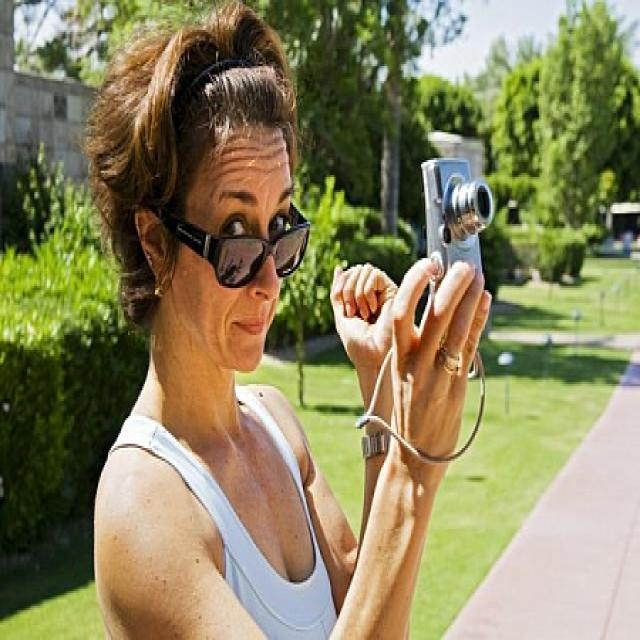Eyes: (218, 205, 294, 243)
